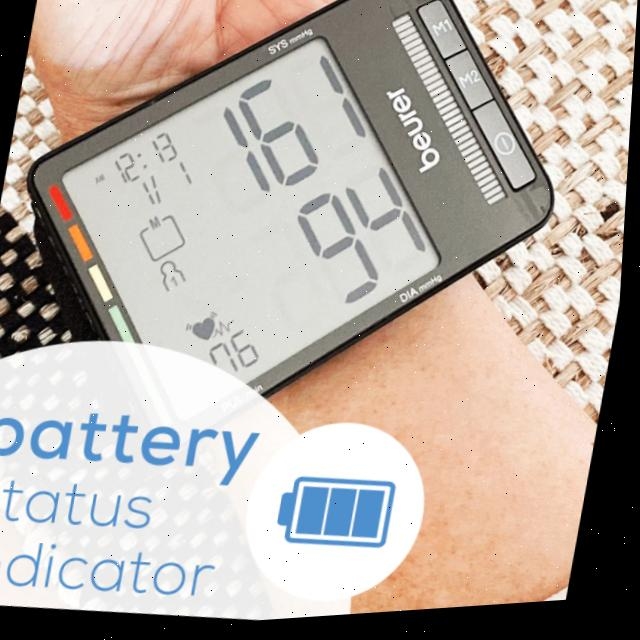dia: (284, 157, 443, 318)
pul: (195, 319, 278, 398)
ssd: (59, 37, 453, 424)
sys: (202, 47, 377, 210)
